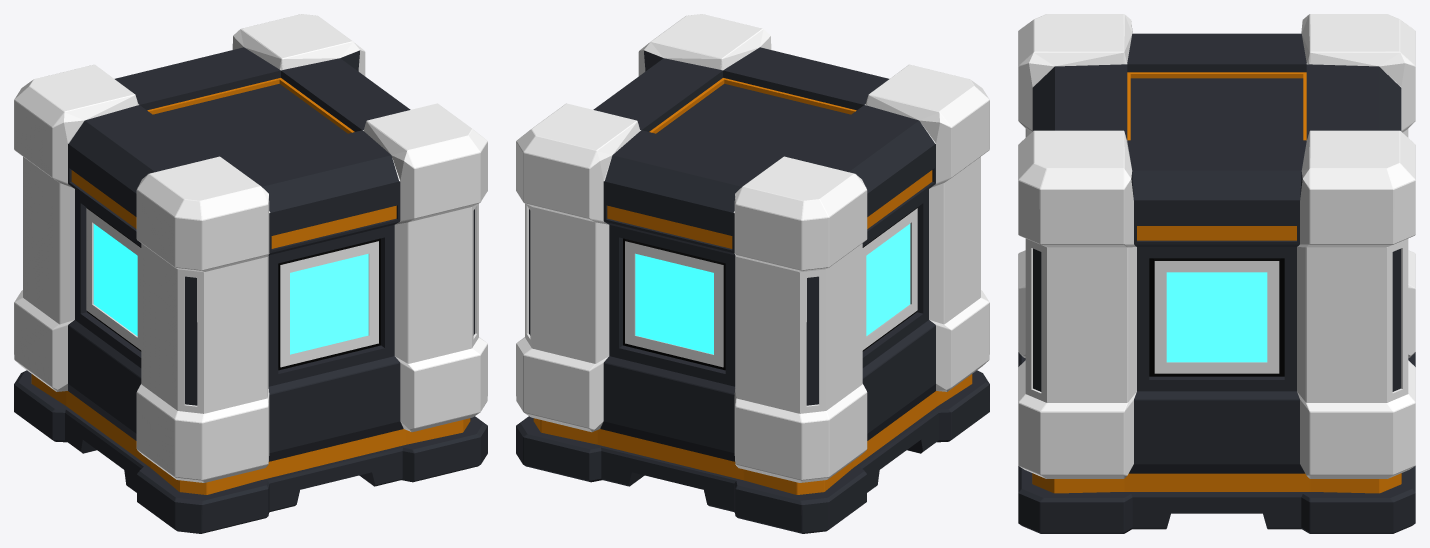
File: SM_Batterie.fbx
3 views of the same model, side by side, from view 1: azimuth 30°, elevation 25°; view 2: azimuth 150°, elevation 25°; view 3: azimuth 270°, elevation 25° (orthographic). The views are drawn at different scales.
Parts seen in each view (by area): view 1: SM_Batterie; view 2: SM_Batterie; view 3: SM_Batterie.
Part boxes in pixels (left/top/right/bottom): SM_Batterie: left=14, top=14, right=487, bottom=533; SM_Batterie: left=516, top=14, right=989, bottom=533; SM_Batterie: left=1018, top=14, right=1415, bottom=533.
Bounding box in the file's own units: 100 × 100 × 100.
